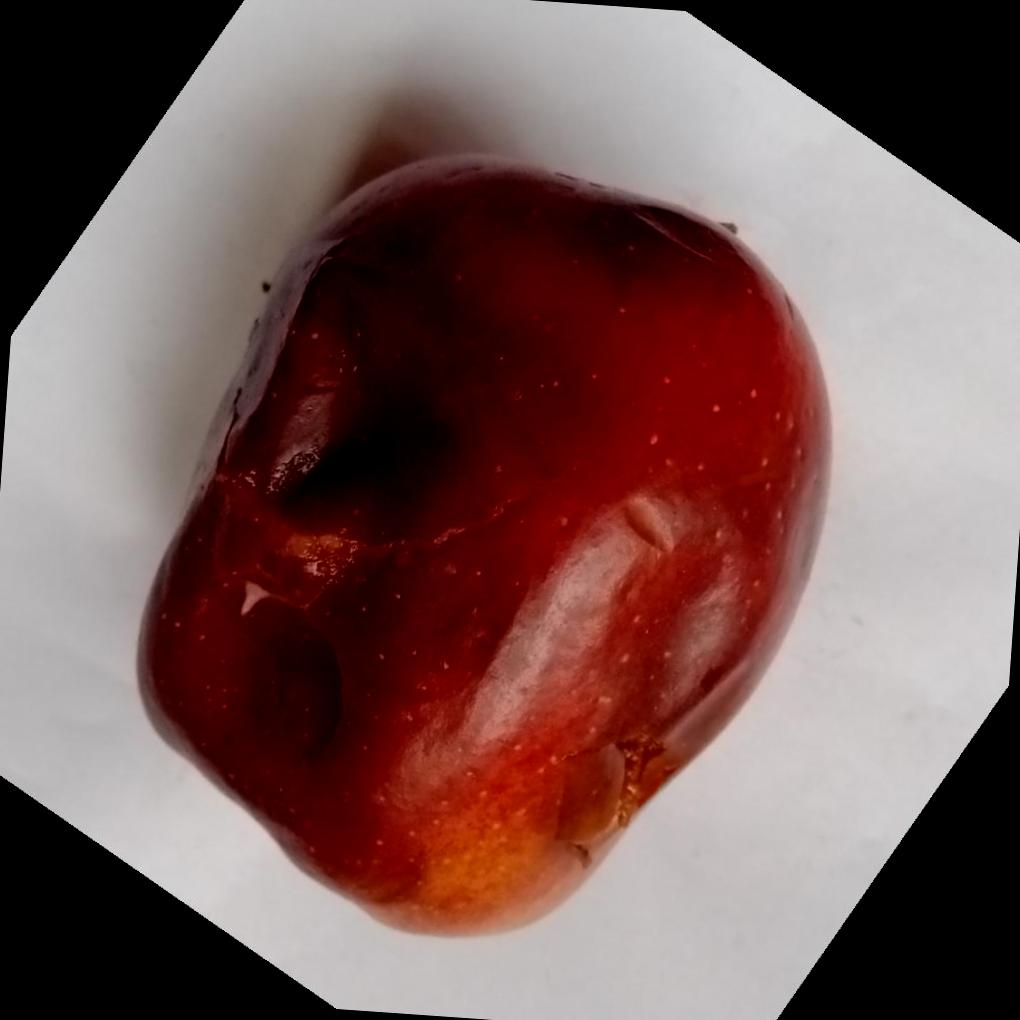FreshOrange: (131, 154, 834, 944)
